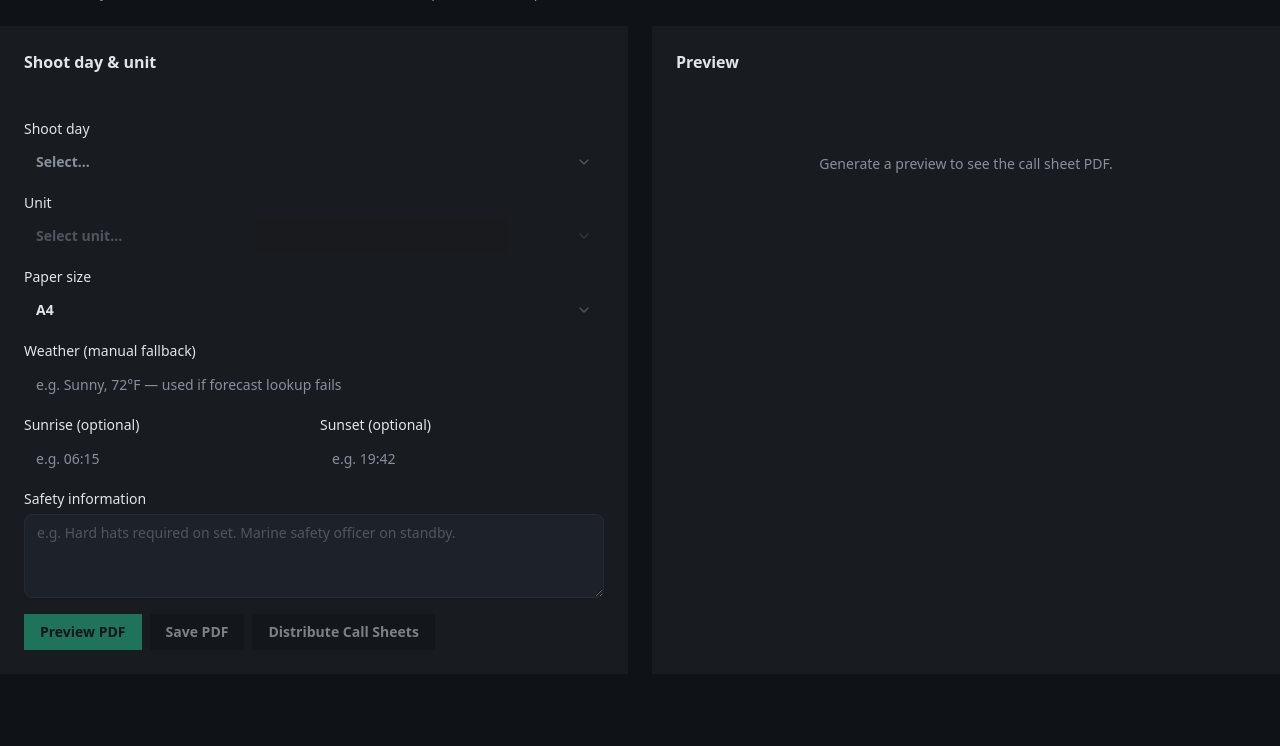
Test: CallSheetsPage RAMS sign-off gate › shows "RAMS not signed off" and asks before exporting; cancel stops the export
Click the dropdown labelled "Select..." at x=63, y=162, box [24,144,604,180]
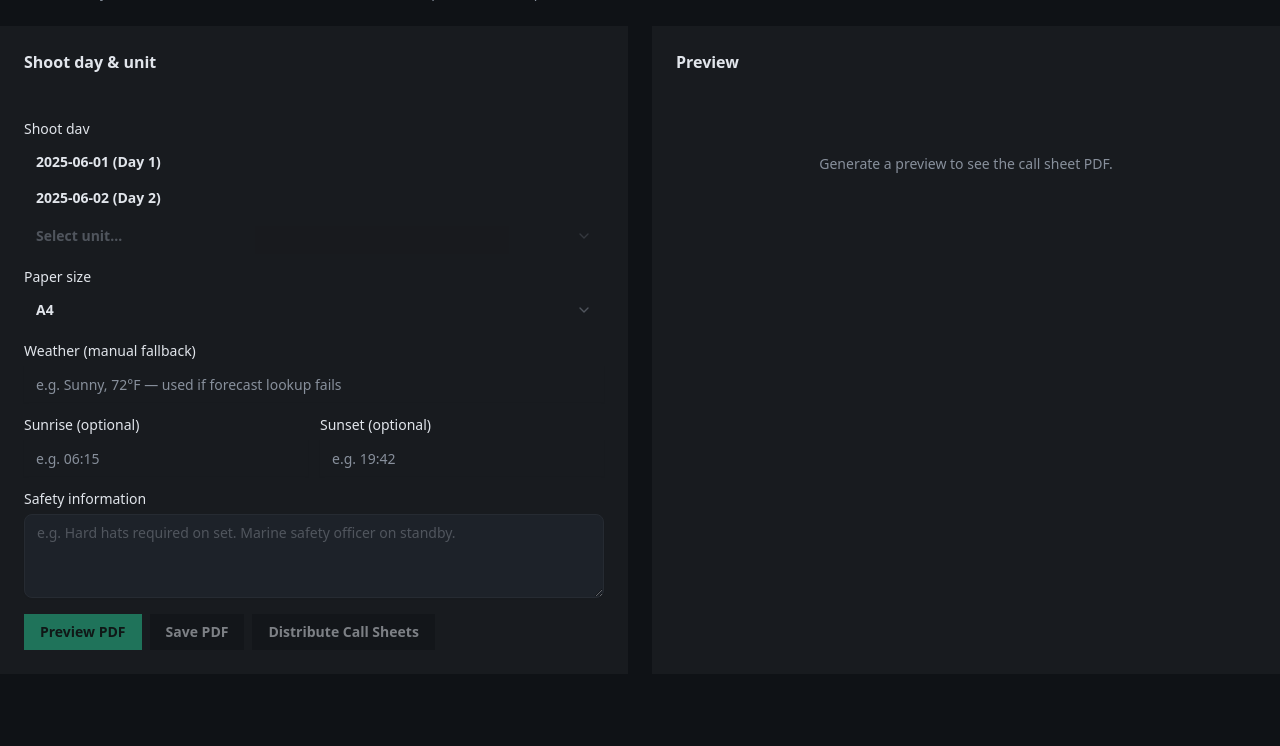
Click the option "2025-06-01 (Day 1)" at x=98, y=162, box [36,152,161,171]
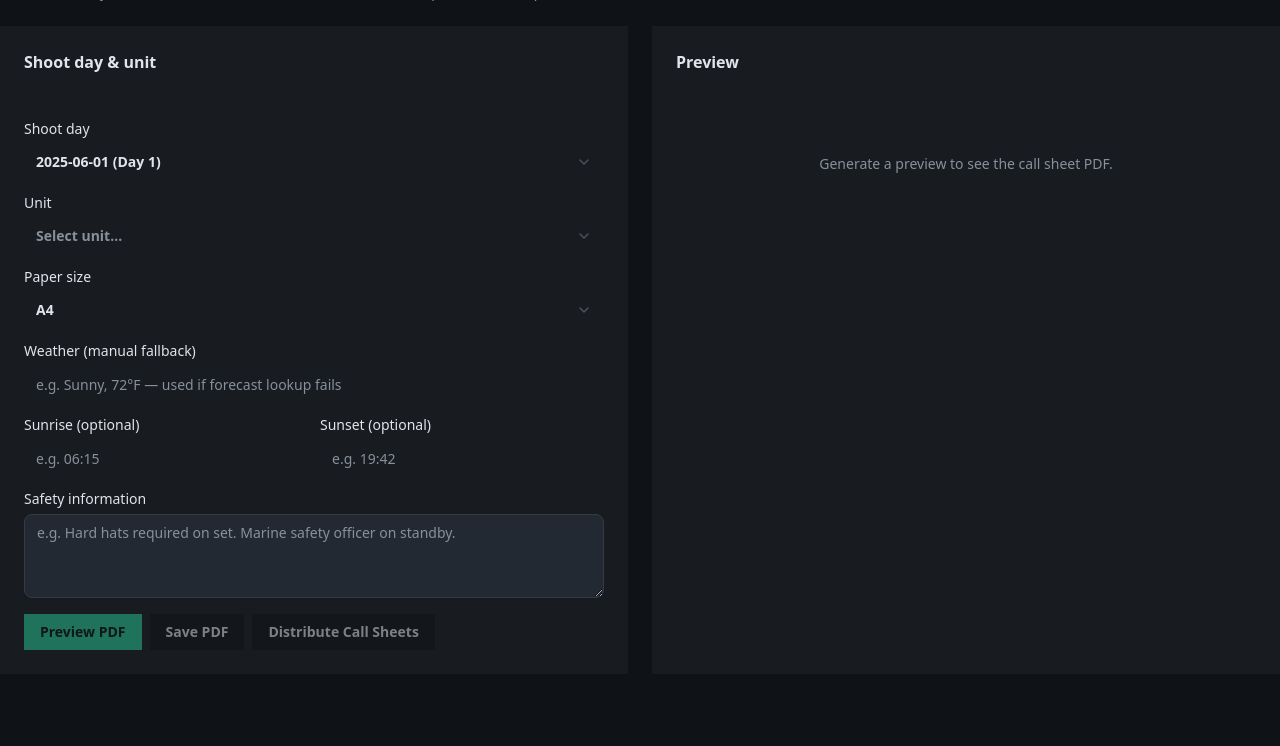
Click the dropdown labelled "Select unit..." at x=79, y=236, box [24,218,604,254]
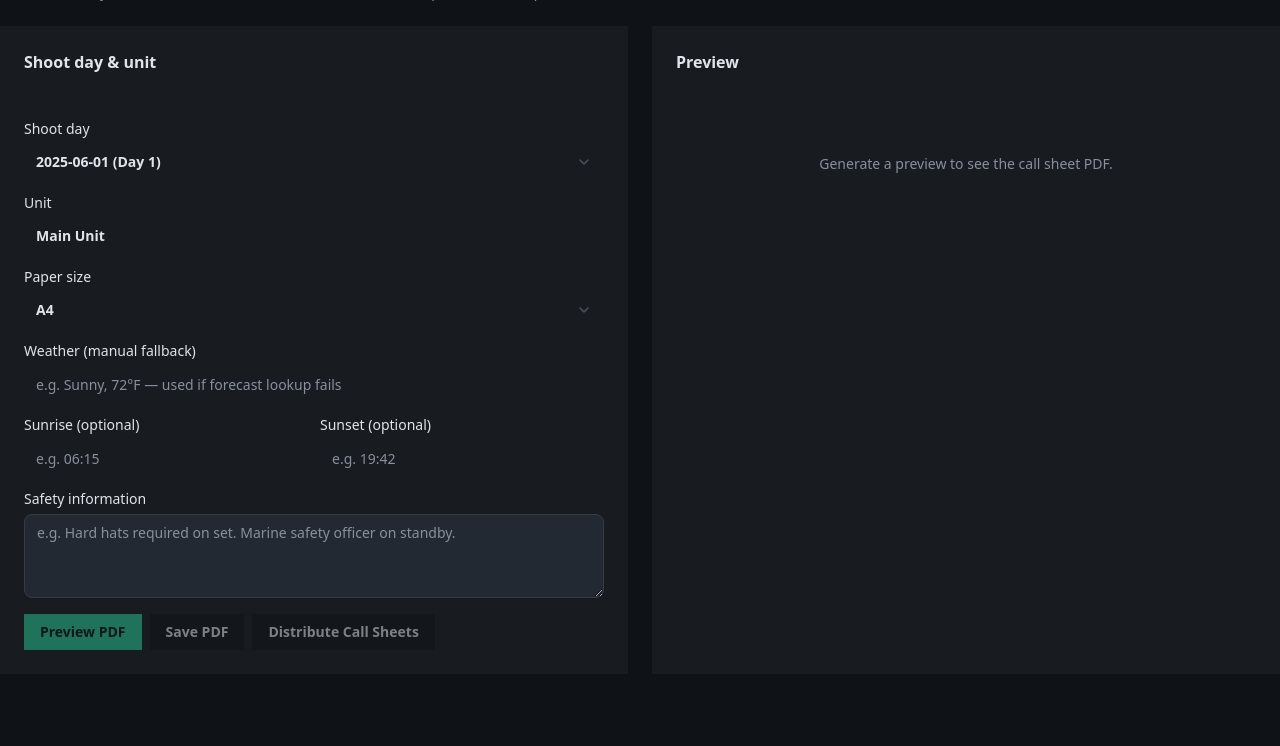
Click the option "Main Unit" at x=70, y=236, box [36,226,105,245]
(page scrolled)
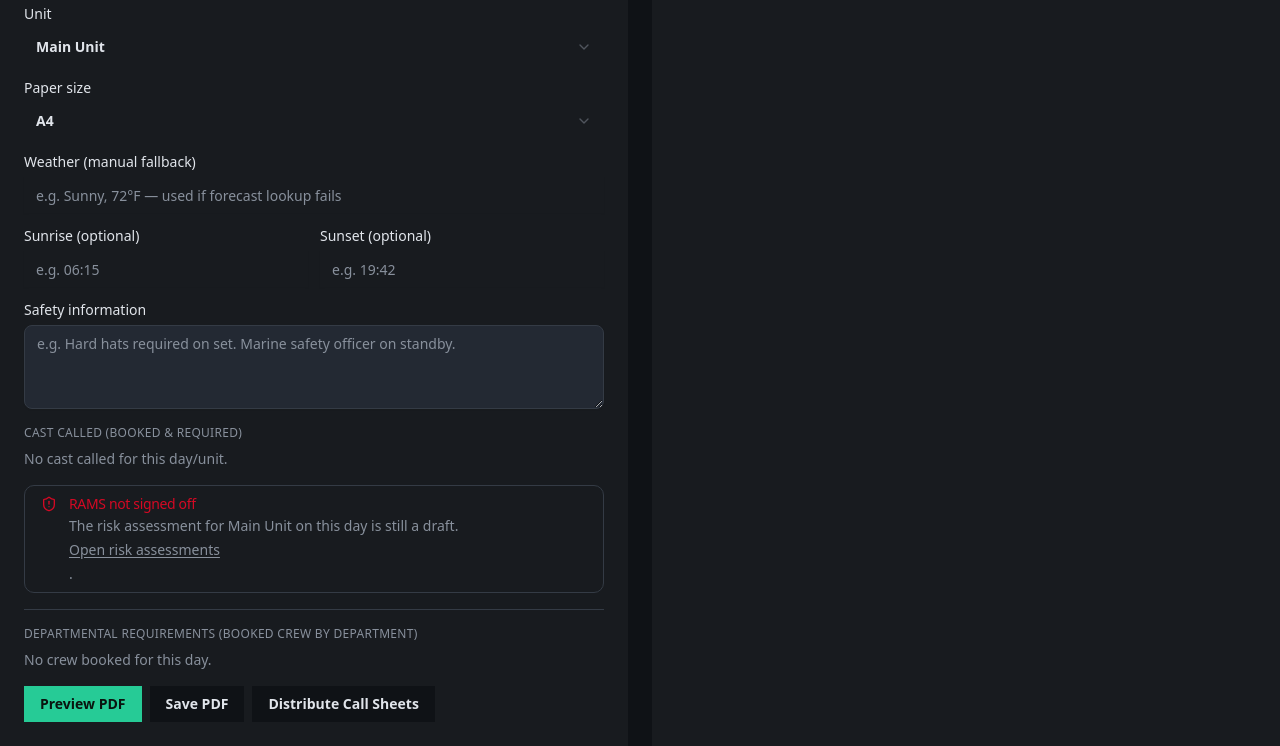
Check: the heading "RAMS not signed off" is shown, box [69,494,196,513]
Check: the button "Preview PDF" is enabled
Click the button "Preview PDF" at x=83, y=704, box [24,686,142,722]
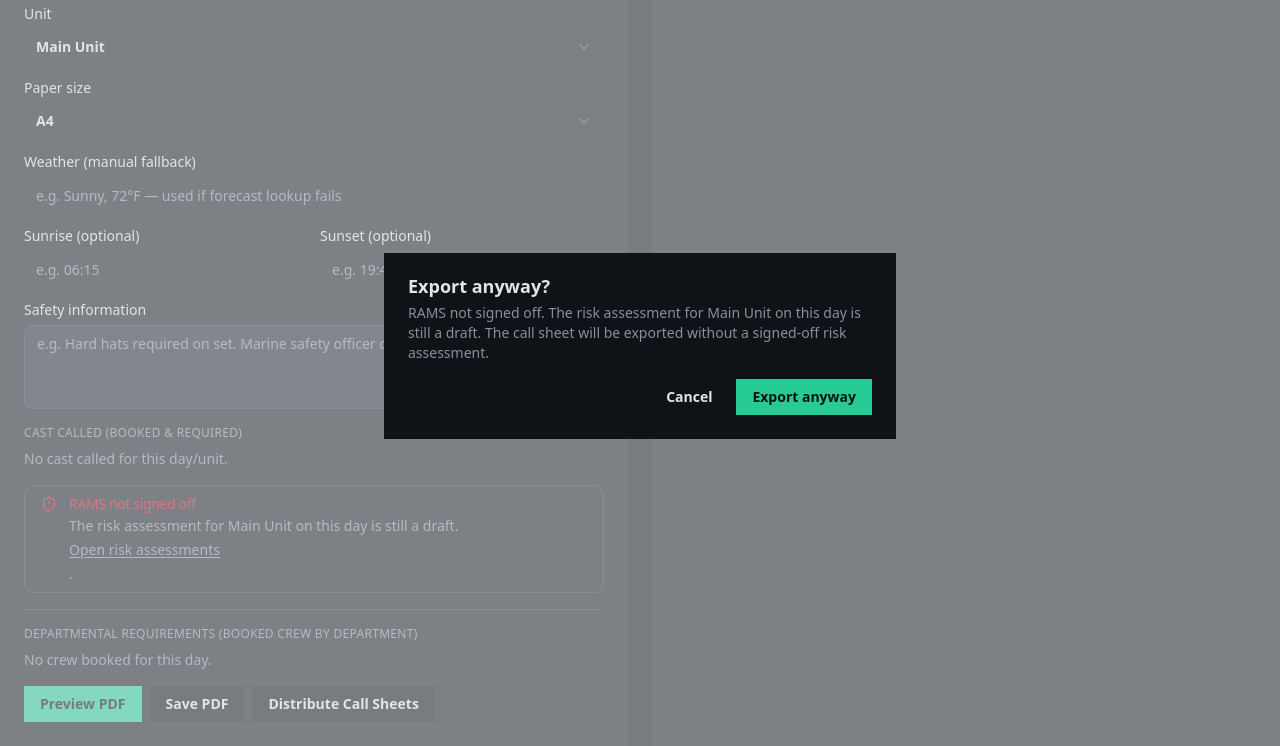
Check: the heading "Export anyway?" is shown, box [408,274,550,298]
Click the button "Cancel" at x=689, y=397, box [650,379,728,415]
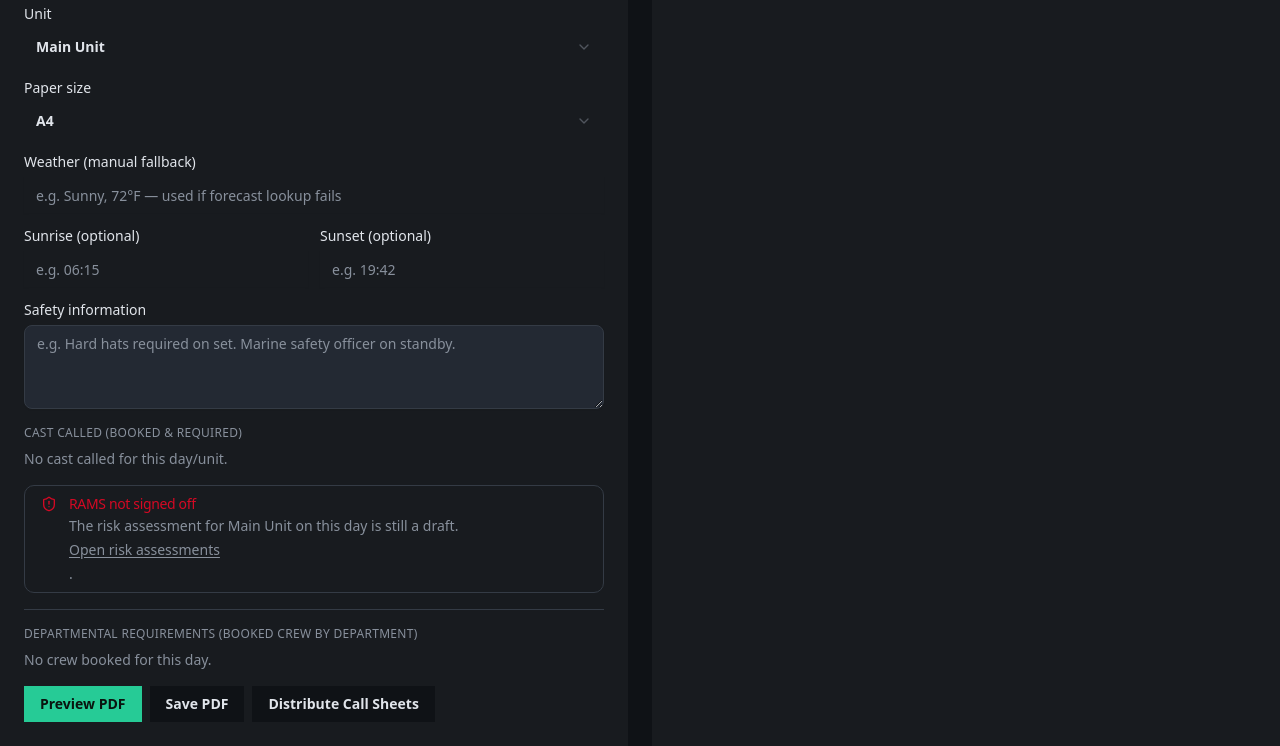
Check: the heading "Export anyway?" is gone
